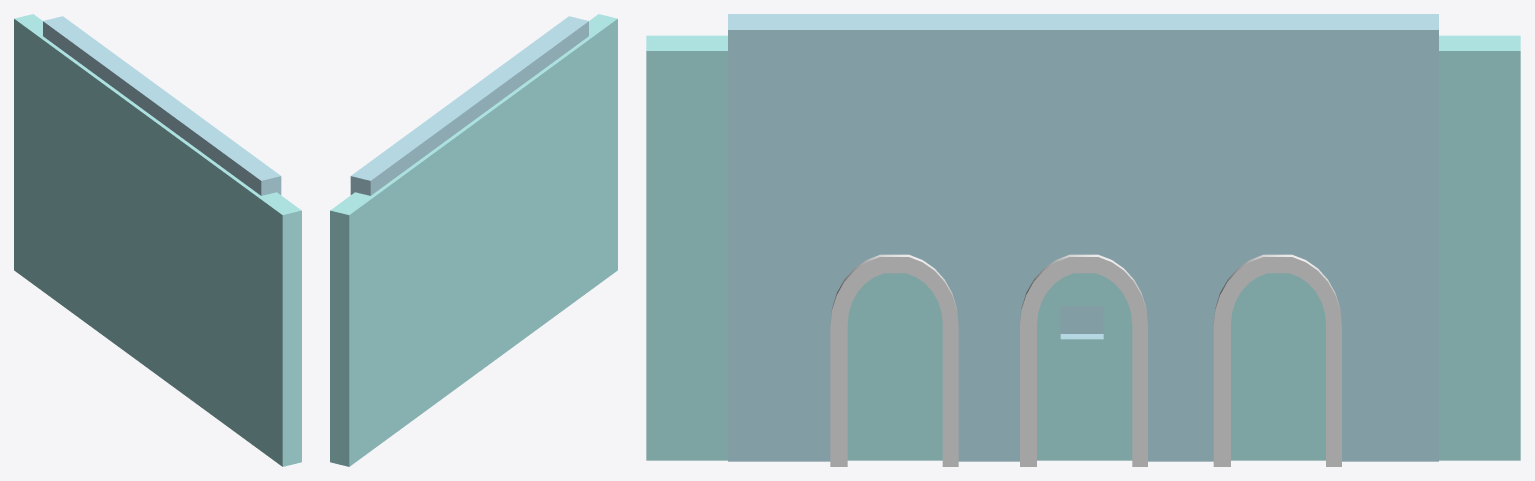
File: wall-B.fbx
The picture shows the model from 3 angles, left to right: view 1: azimuth 30°, elevation 25°; view 2: azimuth 150°, elevation 25°; view 3: azimuth 270°, elevation 25°; orthographic projection. The views are drawn at different scales.
Visible parts, largest first — view 1: Cube, 立方体.008; view 2: Cube, 立方体.008; view 3: 立方体.008, Cube, ふち１.001, ふち１.003, ふち１.002.
Part boxes in pixels (x1,y1,x2,y2): Cube: (14, 14, 301, 466); 立方体.008: (43, 16, 281, 195); Cube: (330, 14, 617, 466); 立方体.008: (350, 16, 588, 195); 立方体.008: (728, 14, 1438, 461); Cube: (646, 35, 1520, 460); ふち１.001: (830, 254, 958, 466); ふち１.003: (1213, 254, 1341, 466); ふち１.002: (1020, 254, 1147, 466).
Bounding box in the file's own units: 0.6842 × 6.57 × 11.97.
